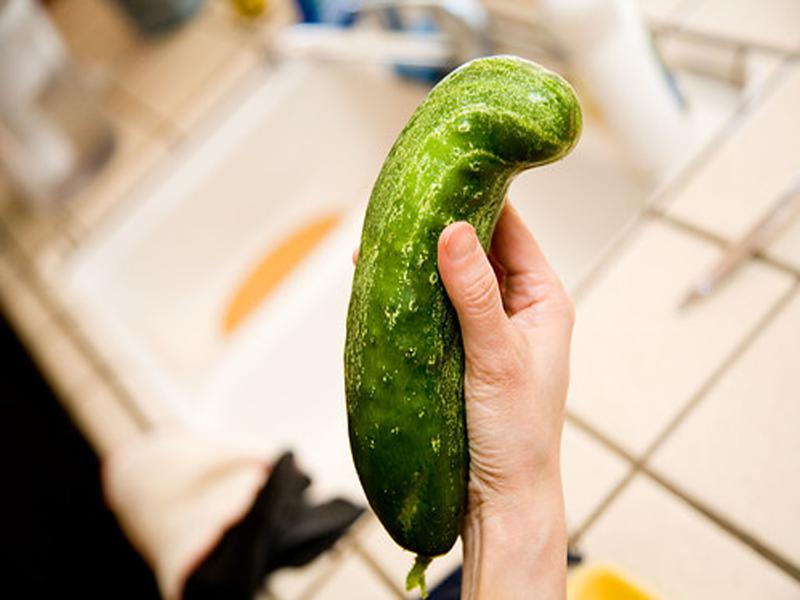Cucumber: (342, 54, 581, 591)
